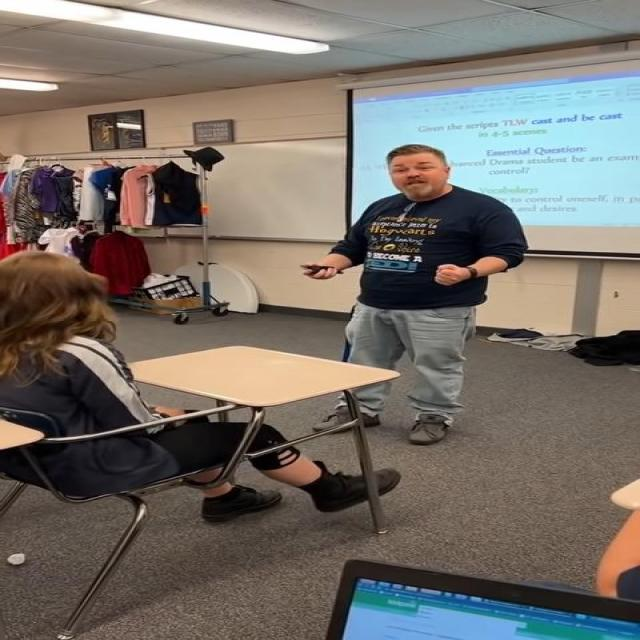NO-Mask: (391, 152, 450, 196)
